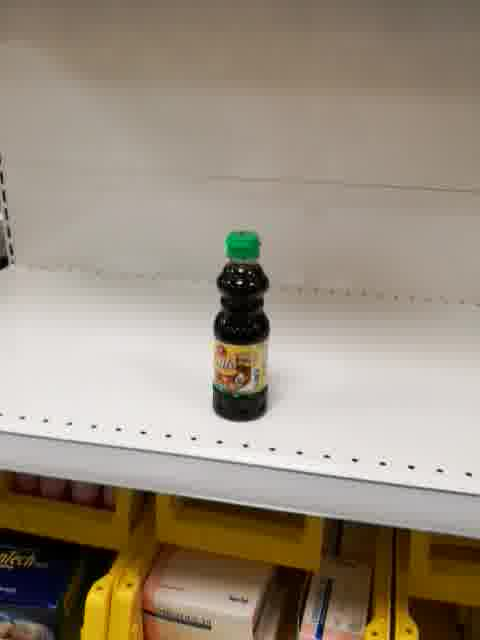cookingoil: (210, 228, 273, 422)
